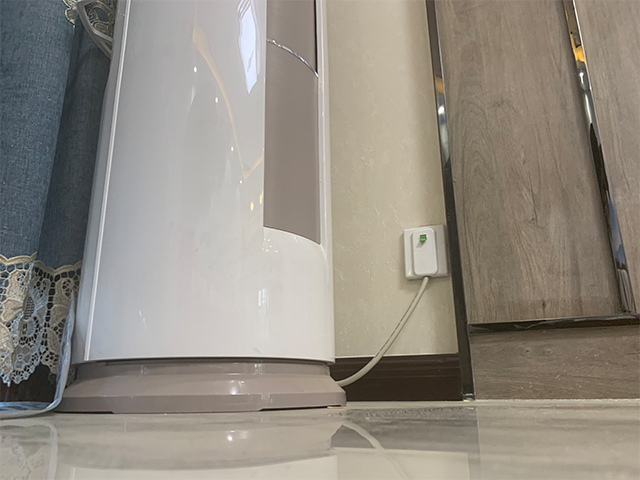curtain: (1, 1, 121, 384)
wire: (334, 276, 432, 389)
